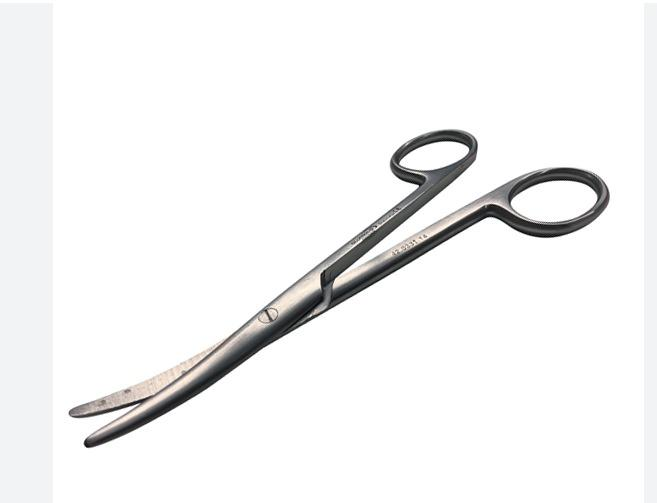Curved Mayo: (58, 110, 620, 459)
